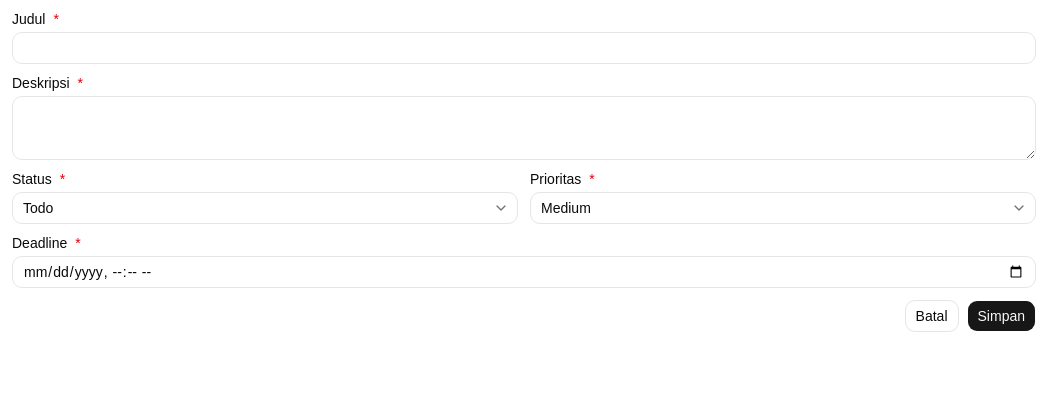
Test: TaskForm › shows errors for all empty required fields and does not submit
Click the button "Simpan" at x=1001, y=316, box [966,300,1036,332]
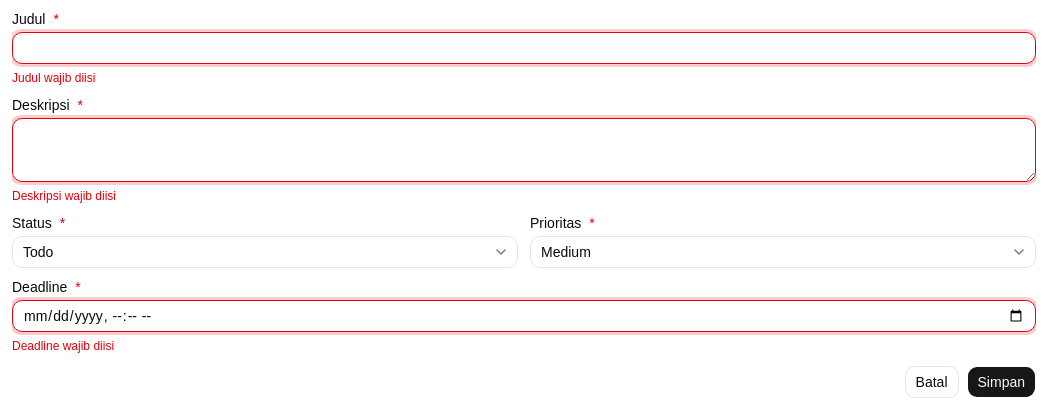
expect the text "Judul wajib diisi" is shown: met, box [12,71,95,85]
expect the text "Deskripsi wajib diisi" is shown: met, box [12,189,116,203]
expect the text "Deadline wajib diisi" is shown: met, box [12,339,114,353]
